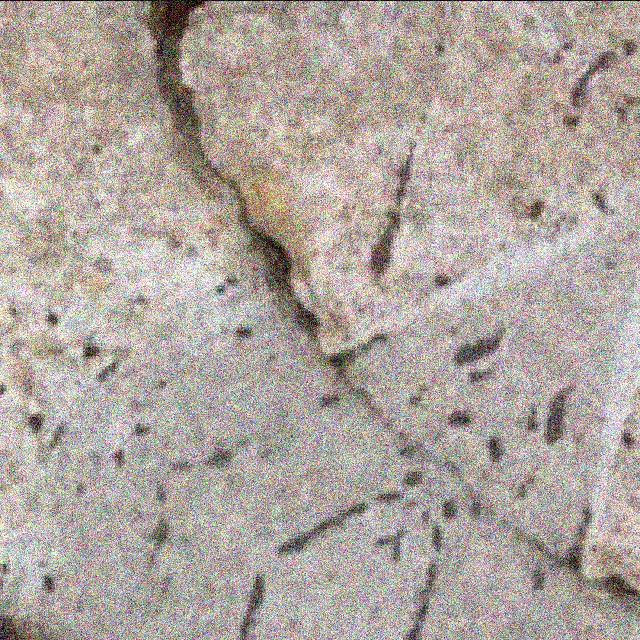SurfaceCrack: (120, 0, 372, 432)
